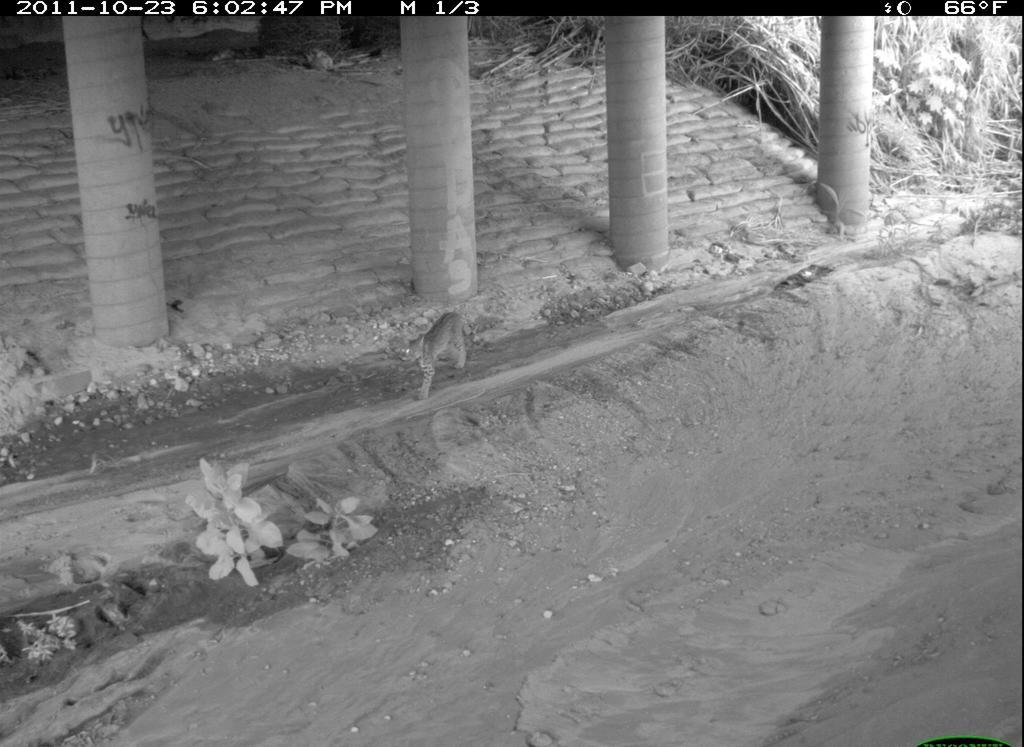bobcat: (801, 615, 954, 747)
